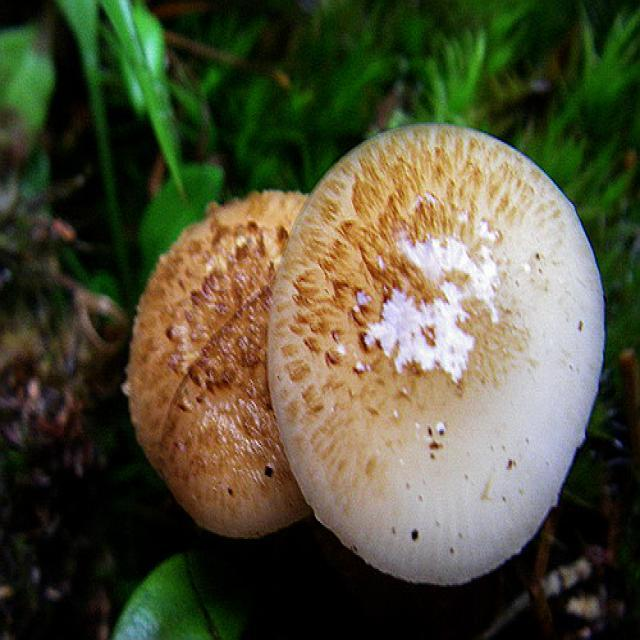Armillaria mellea: (126, 126, 604, 587)
